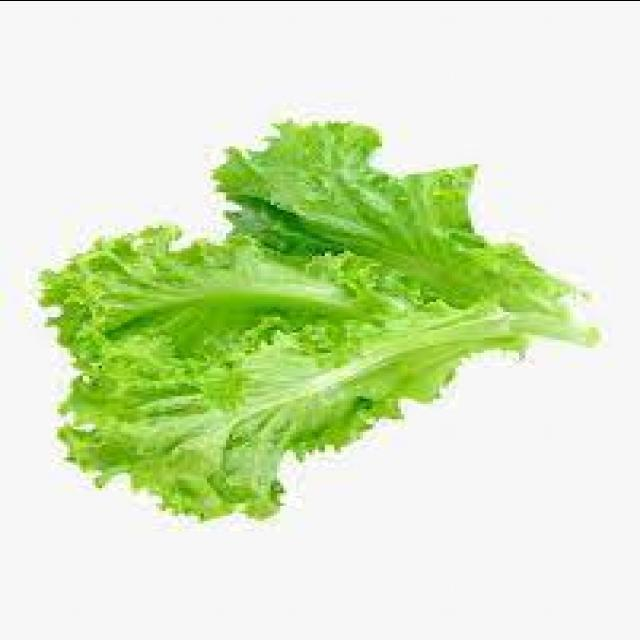Lettuce: (46, 120, 592, 528)
